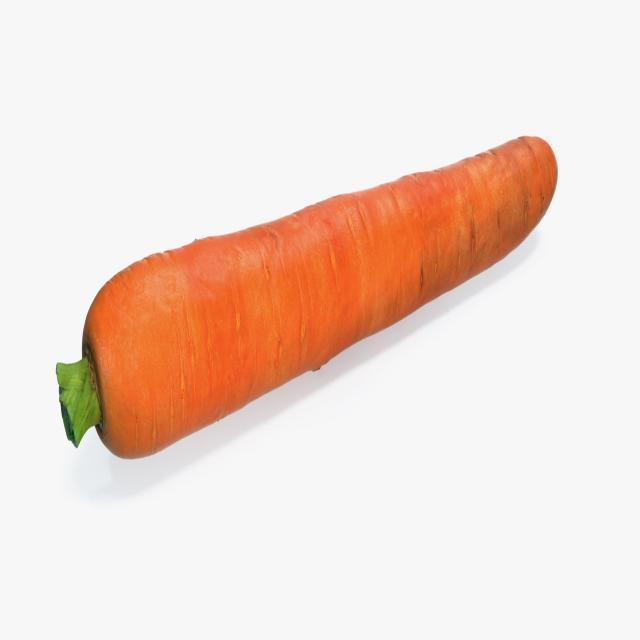carrot: (52, 133, 560, 469)
